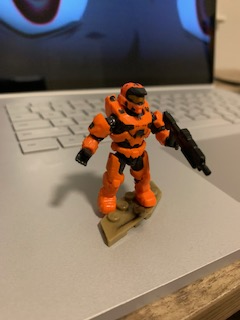rifle: (161, 109, 212, 179)
spartan: (76, 78, 178, 217)
